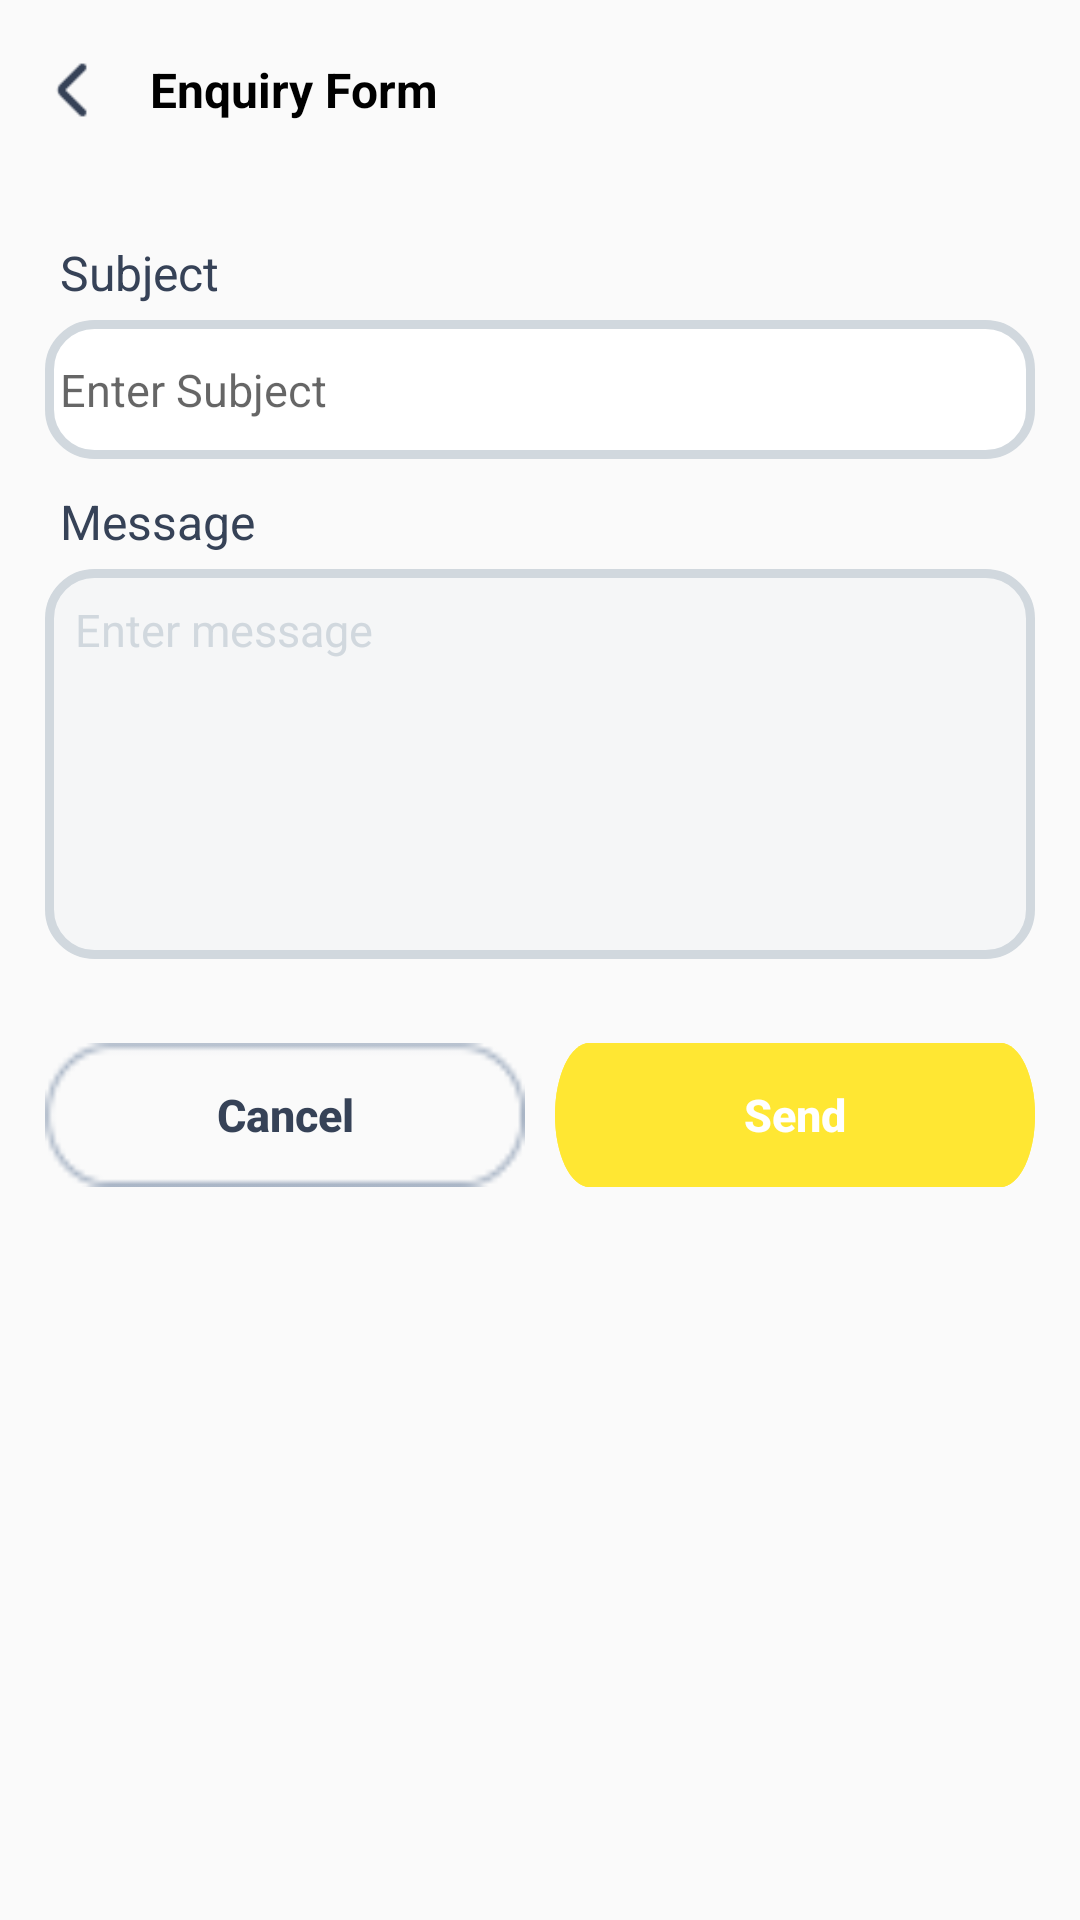

Point at icon controls on the screen. Image size 1080*1920, points as [x,y].
backarrow: [72,90]
